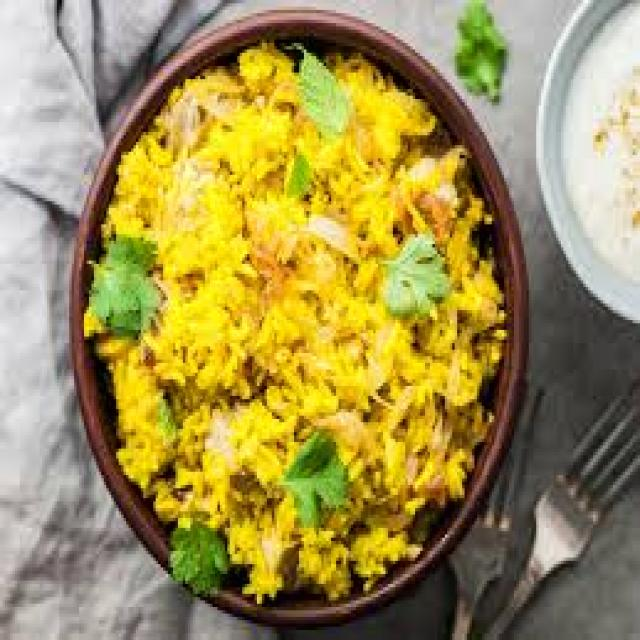Wet Waste: (75, 33, 513, 620)
